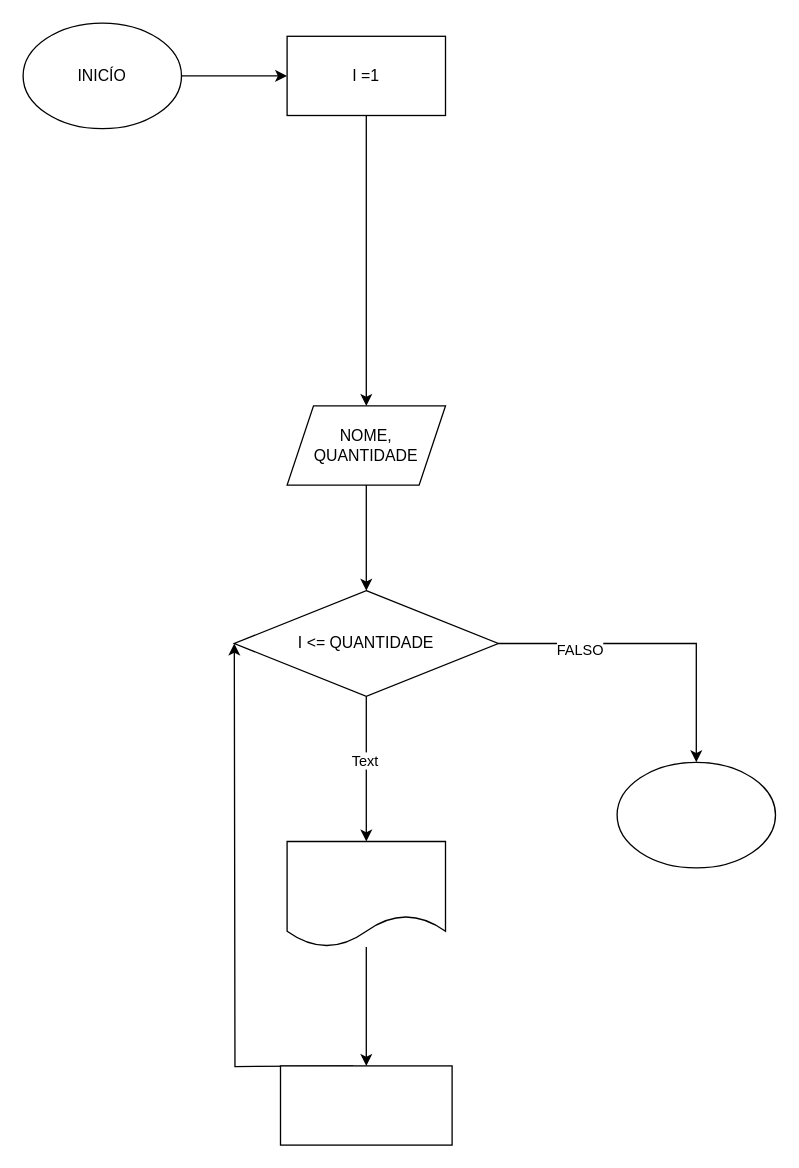
Image size: 799x1168. Some labels were removed from this diagram. The shapes that lost their labels are listed below. From the top down, each one's box as (x1, y1, x2, y2) in pixels, then its label:
(286, 840, 446, 947): NOME
(279, 1065, 452, 1145): I++
